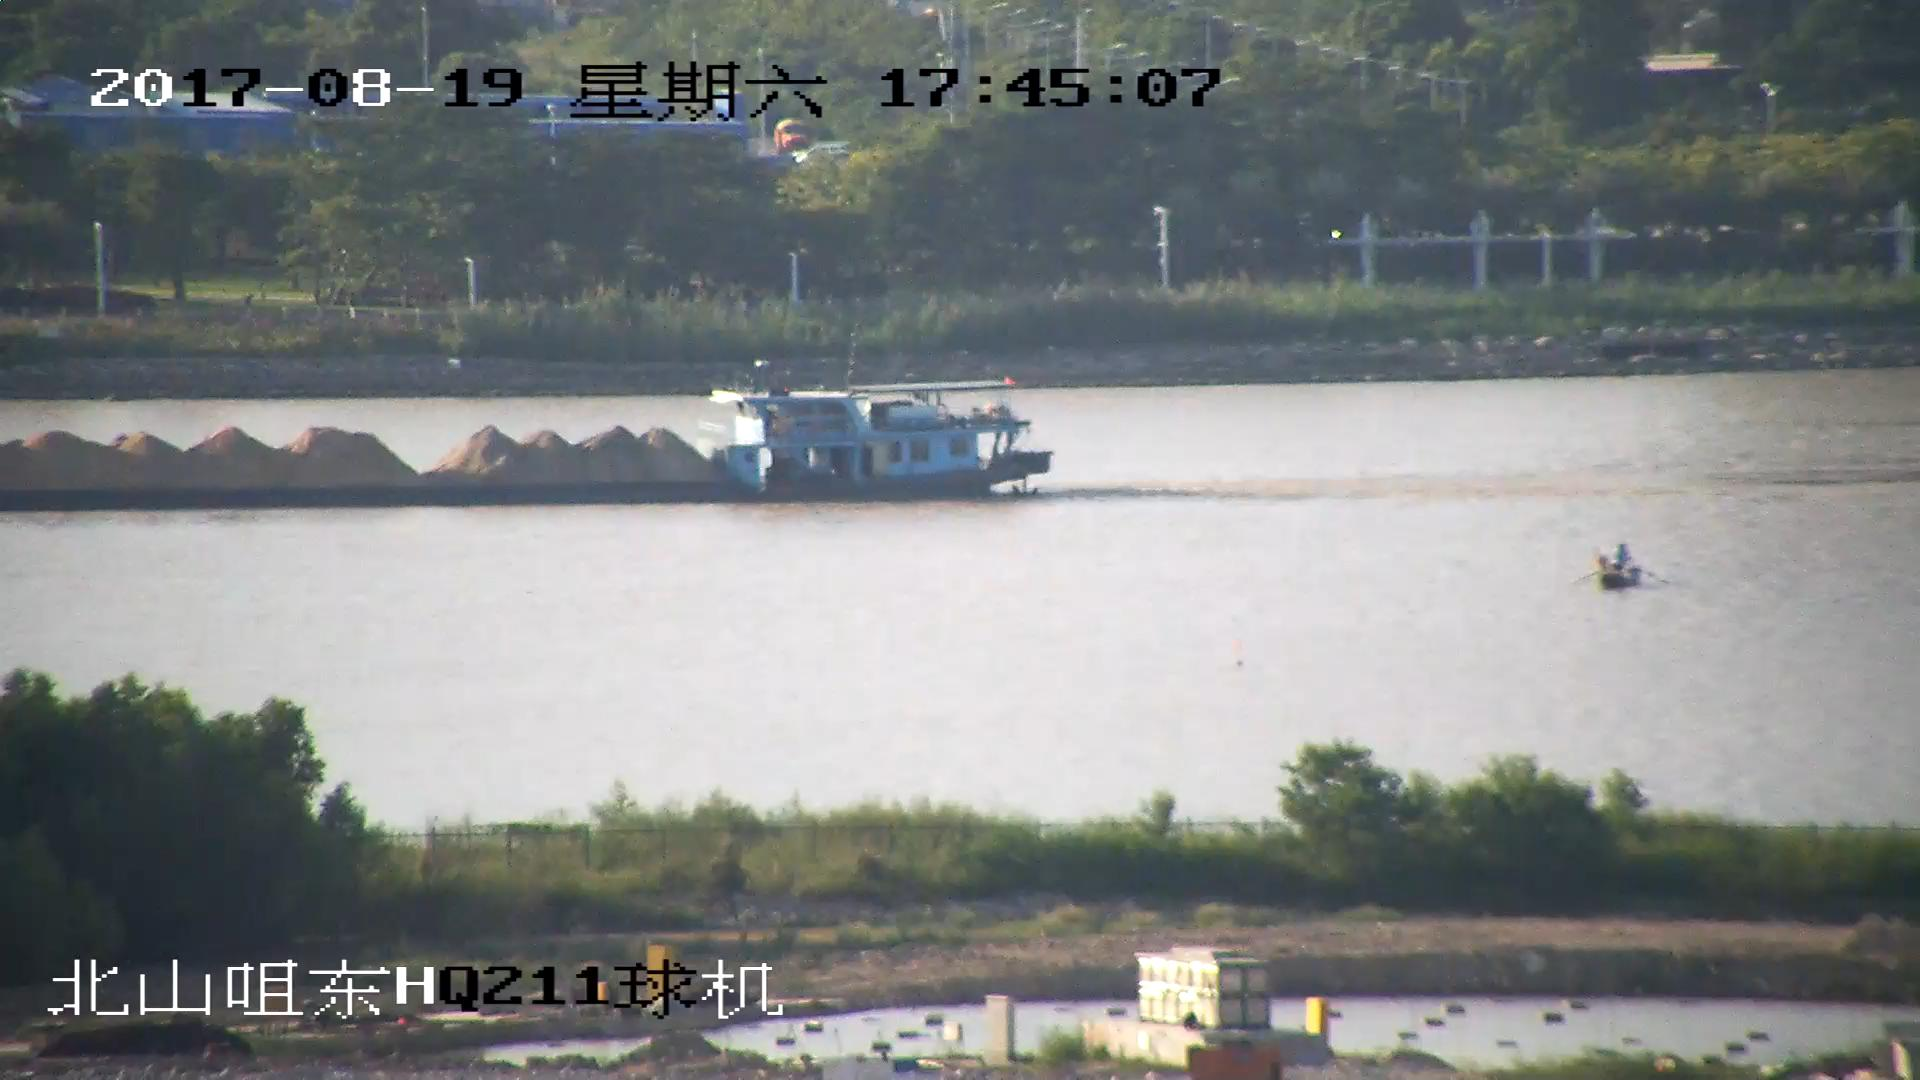fishing boat: (1594, 548, 1644, 592)
ore carrier: (1, 360, 1060, 508)
